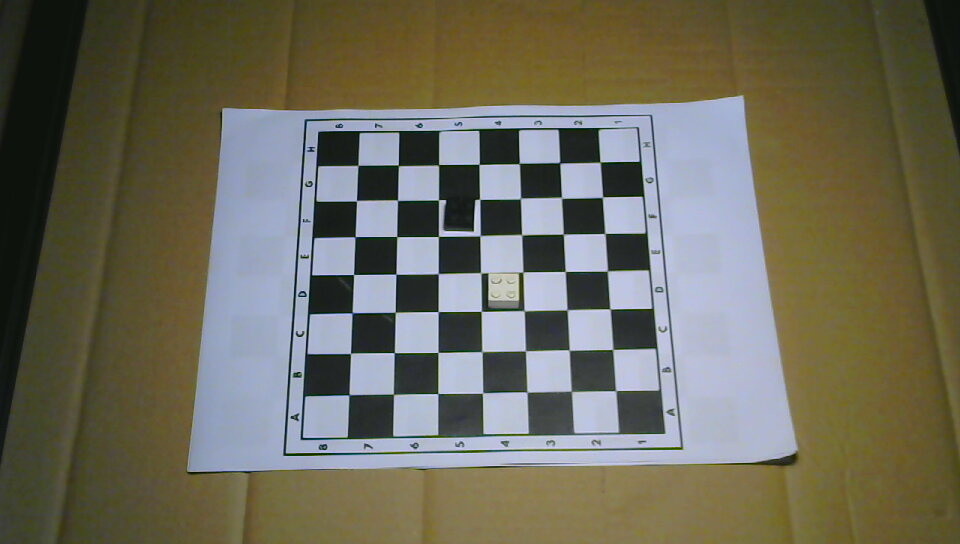bp: (443, 198, 476, 233)
wp: (486, 272, 520, 310)
